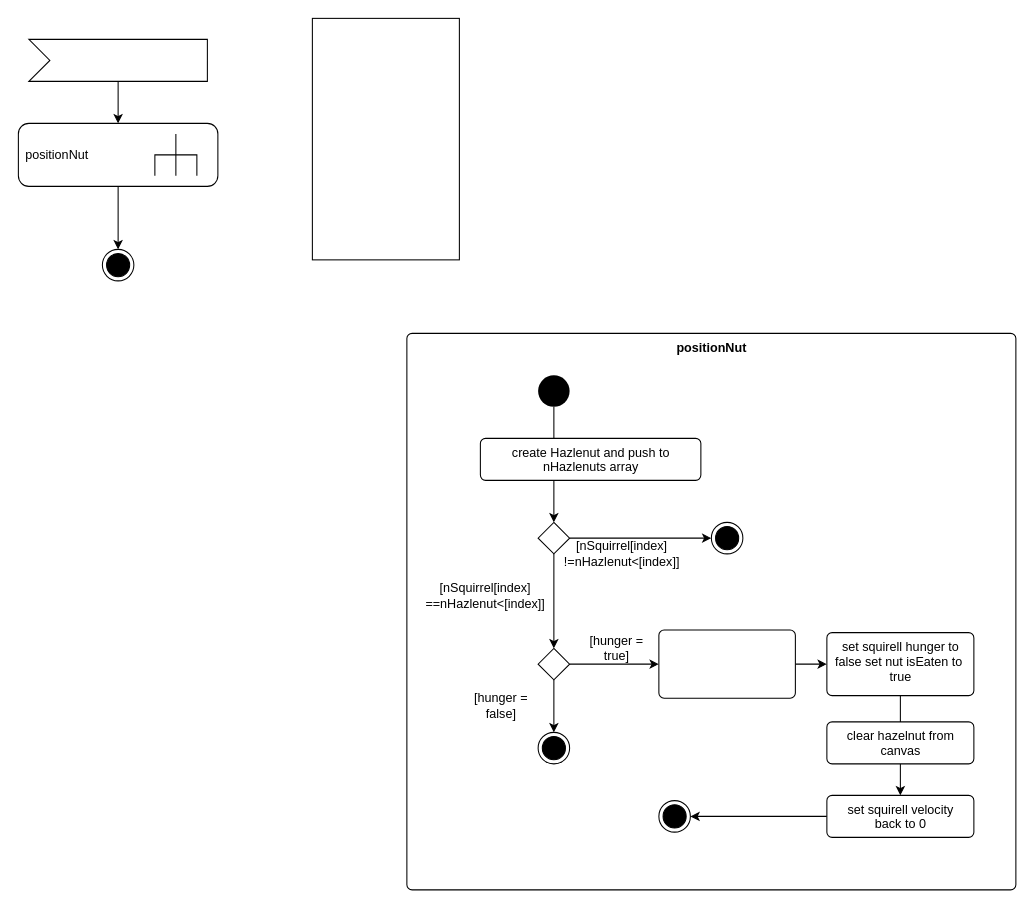
This 1034x908 diagram has some shape labels left out. Here are the shapes that lost their labels. From the top down, the box of each, then its label:
(28, 38, 207, 81): Click
(311, 17, 459, 260): movables: Moveables[] nSquirrels: number[] nHazlenuts: number[]
(658, 629, 795, 698): squirrel velocity = position Hazlenut -- position squirrel
